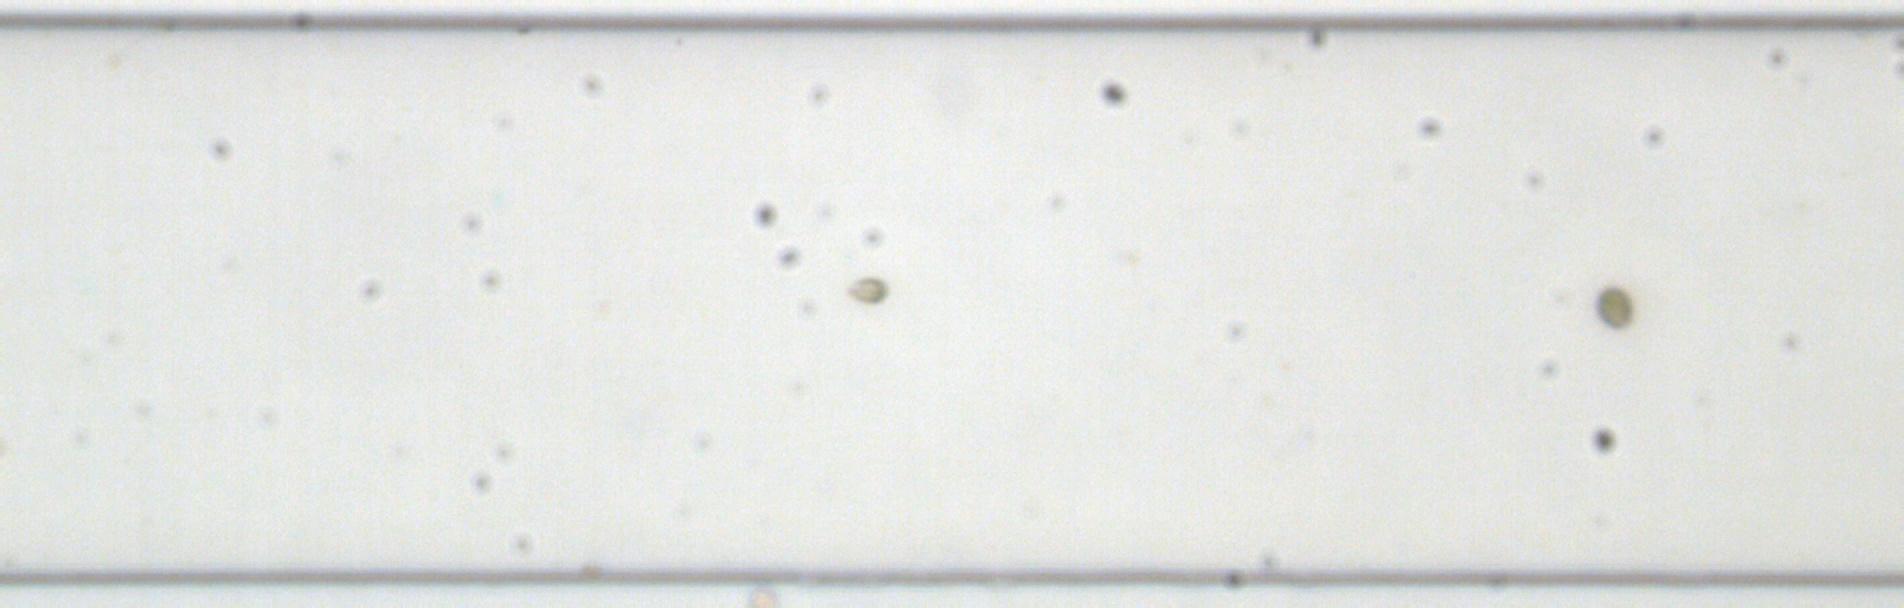Dunaliella salina: (1593, 283, 1634, 334), (844, 275, 890, 303)
